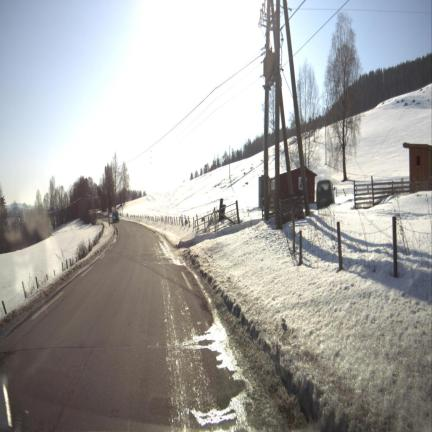Road: (0, 221, 244, 430)
